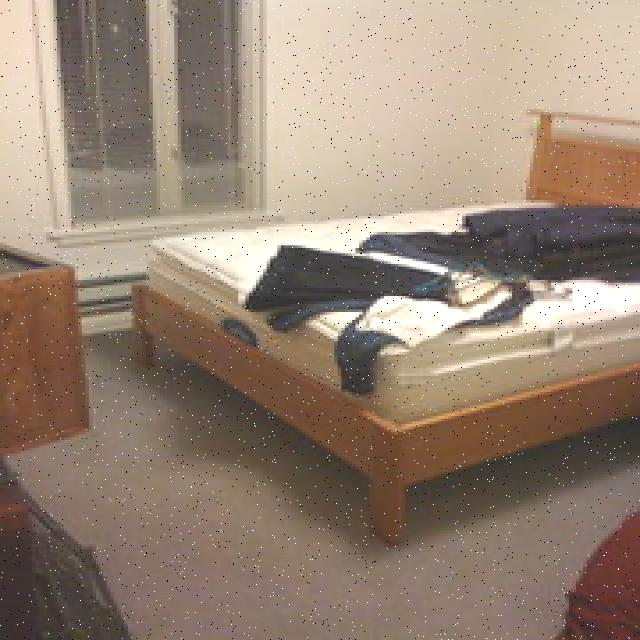bed: (148, 181, 640, 401)
